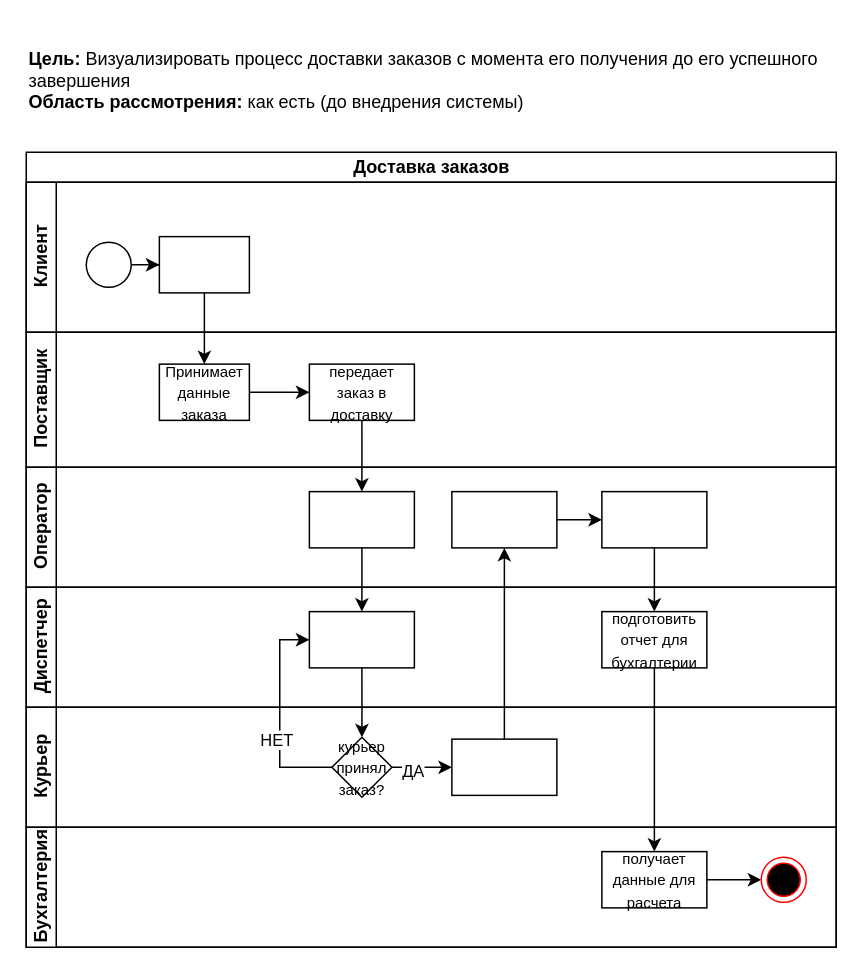
The diagram is 863 pixels wide and 974 high, and some of its shapes have lost their labels. Here are the shapes that lost their labels. From the top down, the centre of each, then its label:
At point (203, 264): "Создает заказ".
At point (361, 519): "регистрирует заказ".
At point (503, 519): "информация о выполнении заказа".
At point (653, 519): "подготовить данные для отчета".
At point (361, 639): "назначает заказ курьеру".
At point (503, 766): "доставляет заказ".
